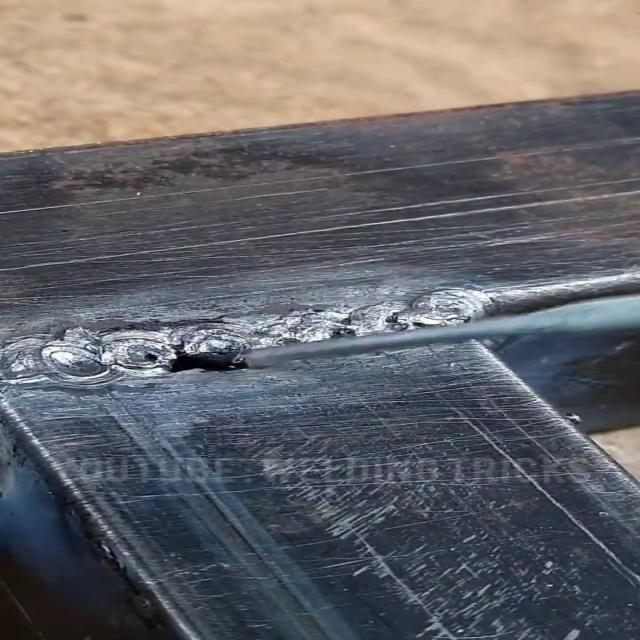Bad Welding: (4, 290, 478, 382)
Porosity: (143, 340, 243, 370)
